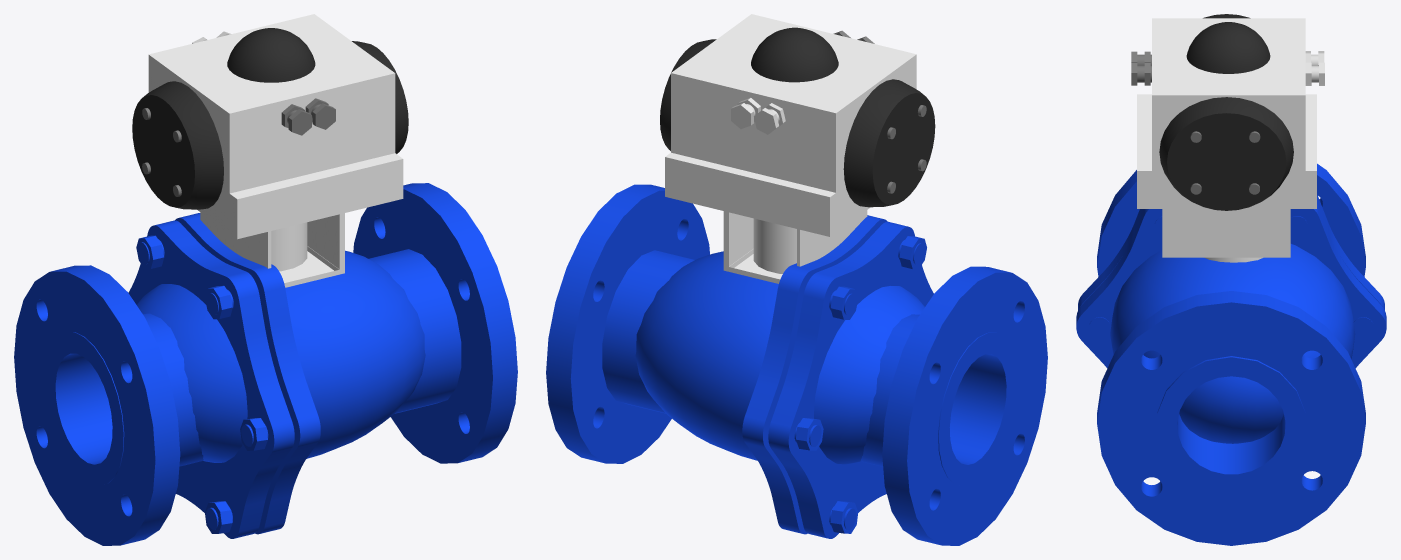
The picture shows the model from 3 angles, left to right: view 1: azimuth 30°, elevation 25°; view 2: azimuth 150°, elevation 25°; view 3: azimuth 270°, elevation 25°; orthographic projection. The views are drawn at different scales.
Visible parts, largest first — view 1: Box002, Sphere001, Cylinder010, Cylinder011, Star003, Cylinder001, Sphere002, Star001, Cylinder002, Box001, Sphere004, Cylinder003 (+1 smaller); view 2: Box002, Sphere001, Cylinder010, Cylinder011, Star003, Cylinder001, Sphere002, Star001, Cylinder002, Sphere004, Box001, Cylinder003 (+1 smaller); view 3: Cylinder011, Box002, Sphere001, Sphere003, Cylinder002, Star001, Box001, Cylinder010, Sphere004, Star003.
Boxes of the visible parts, x1,y1,x2,y2 form: Box002: (148,14,403,239); Sphere001: (136,250,425,462); Cylinder010: (14,265,180,545); Cylinder011: (353,183,517,463); Star003: (128,220,294,538); Cylinder001: (44,313,203,486); Sphere002: (132,81,223,209); Star001: (175,213,320,534); Cylinder002: (369,249,461,413); Box001: (200,212,344,287); Sphere004: (227,28,315,82); Cylinder003: (271,222,307,271); Box002: (665,14,916,236); Sphere001: (635,251,924,464); Cylinder010: (882,266,1047,545); Cylinder011: (546,184,709,463); Star003: (768,221,933,538); Cylinder001: (860,314,1017,486); Sphere002: (843,79,935,207); Star001: (742,215,887,534); Cylinder002: (602,250,694,413); Sphere004: (751,27,838,82); Box001: (723,210,867,283); Cylinder003: (753,218,796,273); Cylinder011: (1097,291,1365,545); Box002: (1137,18,1316,208); Sphere001: (1110,244,1355,443); Sphere003: (1159,97,1293,210); Cylinder002: (1157,356,1305,493); Star001: (1076,204,1386,368); Box001: (1162,209,1290,257); Cylinder010: (1097,163,1365,276); Sphere004: (1186,22,1270,73); Star003: (1078,195,1384,309).
Size of the model in its own units: 3.73 by 4.52 by 2.88.
